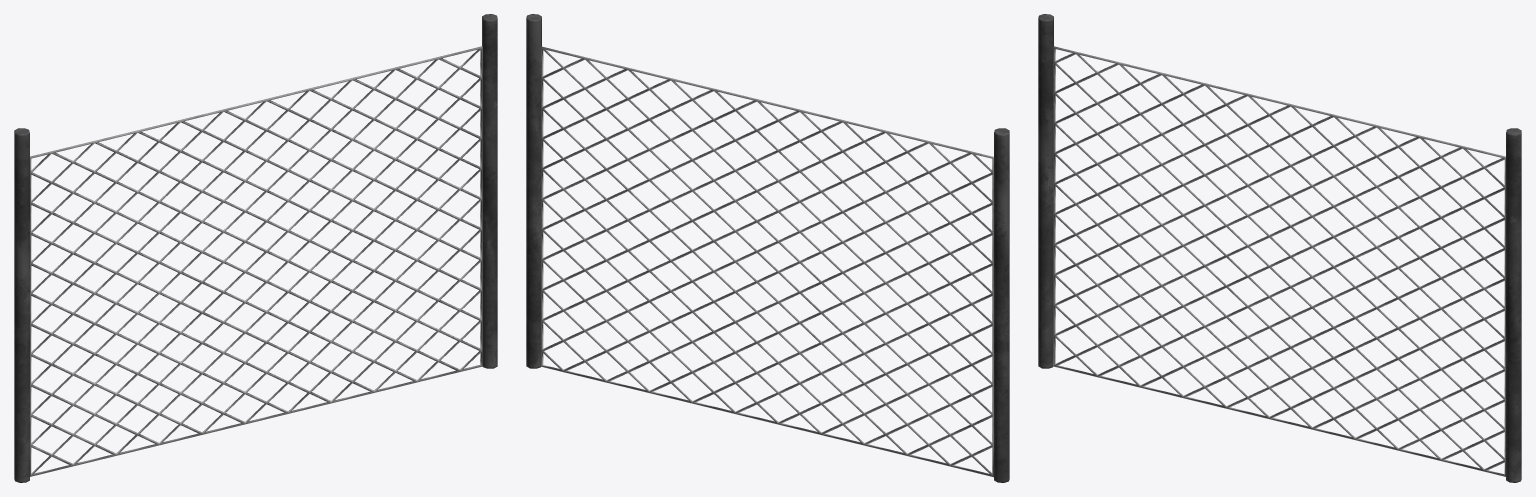
File: reja.fbx
3 renders of one model, left to right at view 1: azimuth 30°, elevation 25°; view 2: azimuth 150°, elevation 25°; view 3: azimuth 330°, elevation 25°, orthographic.
Parts seen in each view (by area): view 1: Plano, Reja; view 2: Plano, Reja; view 3: Plano, Reja.
Part boxes in pixels (left/top/right/bottom): Plano: left=30, top=46, right=482, bottom=476; Reja: left=14, top=14, right=497, bottom=482; Plano: left=541, top=46, right=993, bottom=477; Reja: left=526, top=14, right=1009, bottom=482; Plano: left=1053, top=46, right=1505, bottom=476; Reja: left=1038, top=14, right=1521, bottom=482.
Bounding box in the file's own units: 427 × 295 × 12.43.
Materials: 2 (2 with a texture image).
